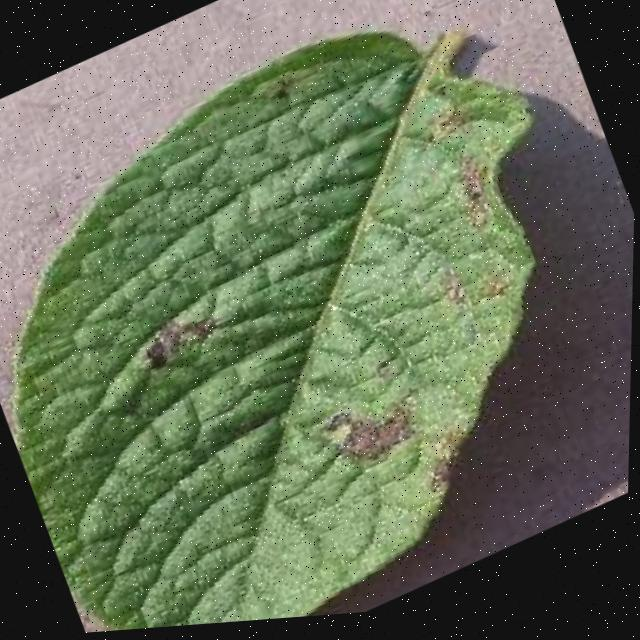Late_blight: (124, 287, 240, 408), (311, 377, 428, 494), (429, 130, 518, 257), (411, 434, 491, 521)
